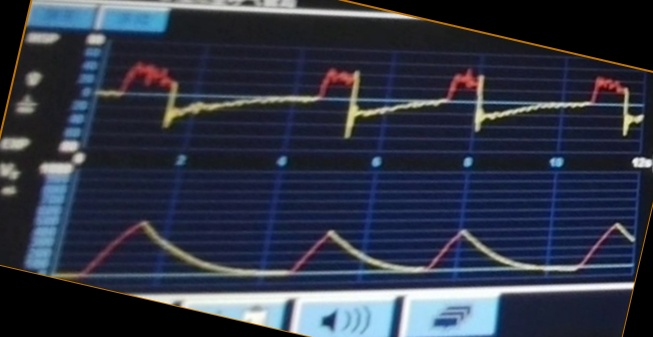Accumulation Flow: (109, 56, 635, 148)
Volume: (69, 201, 635, 279)
